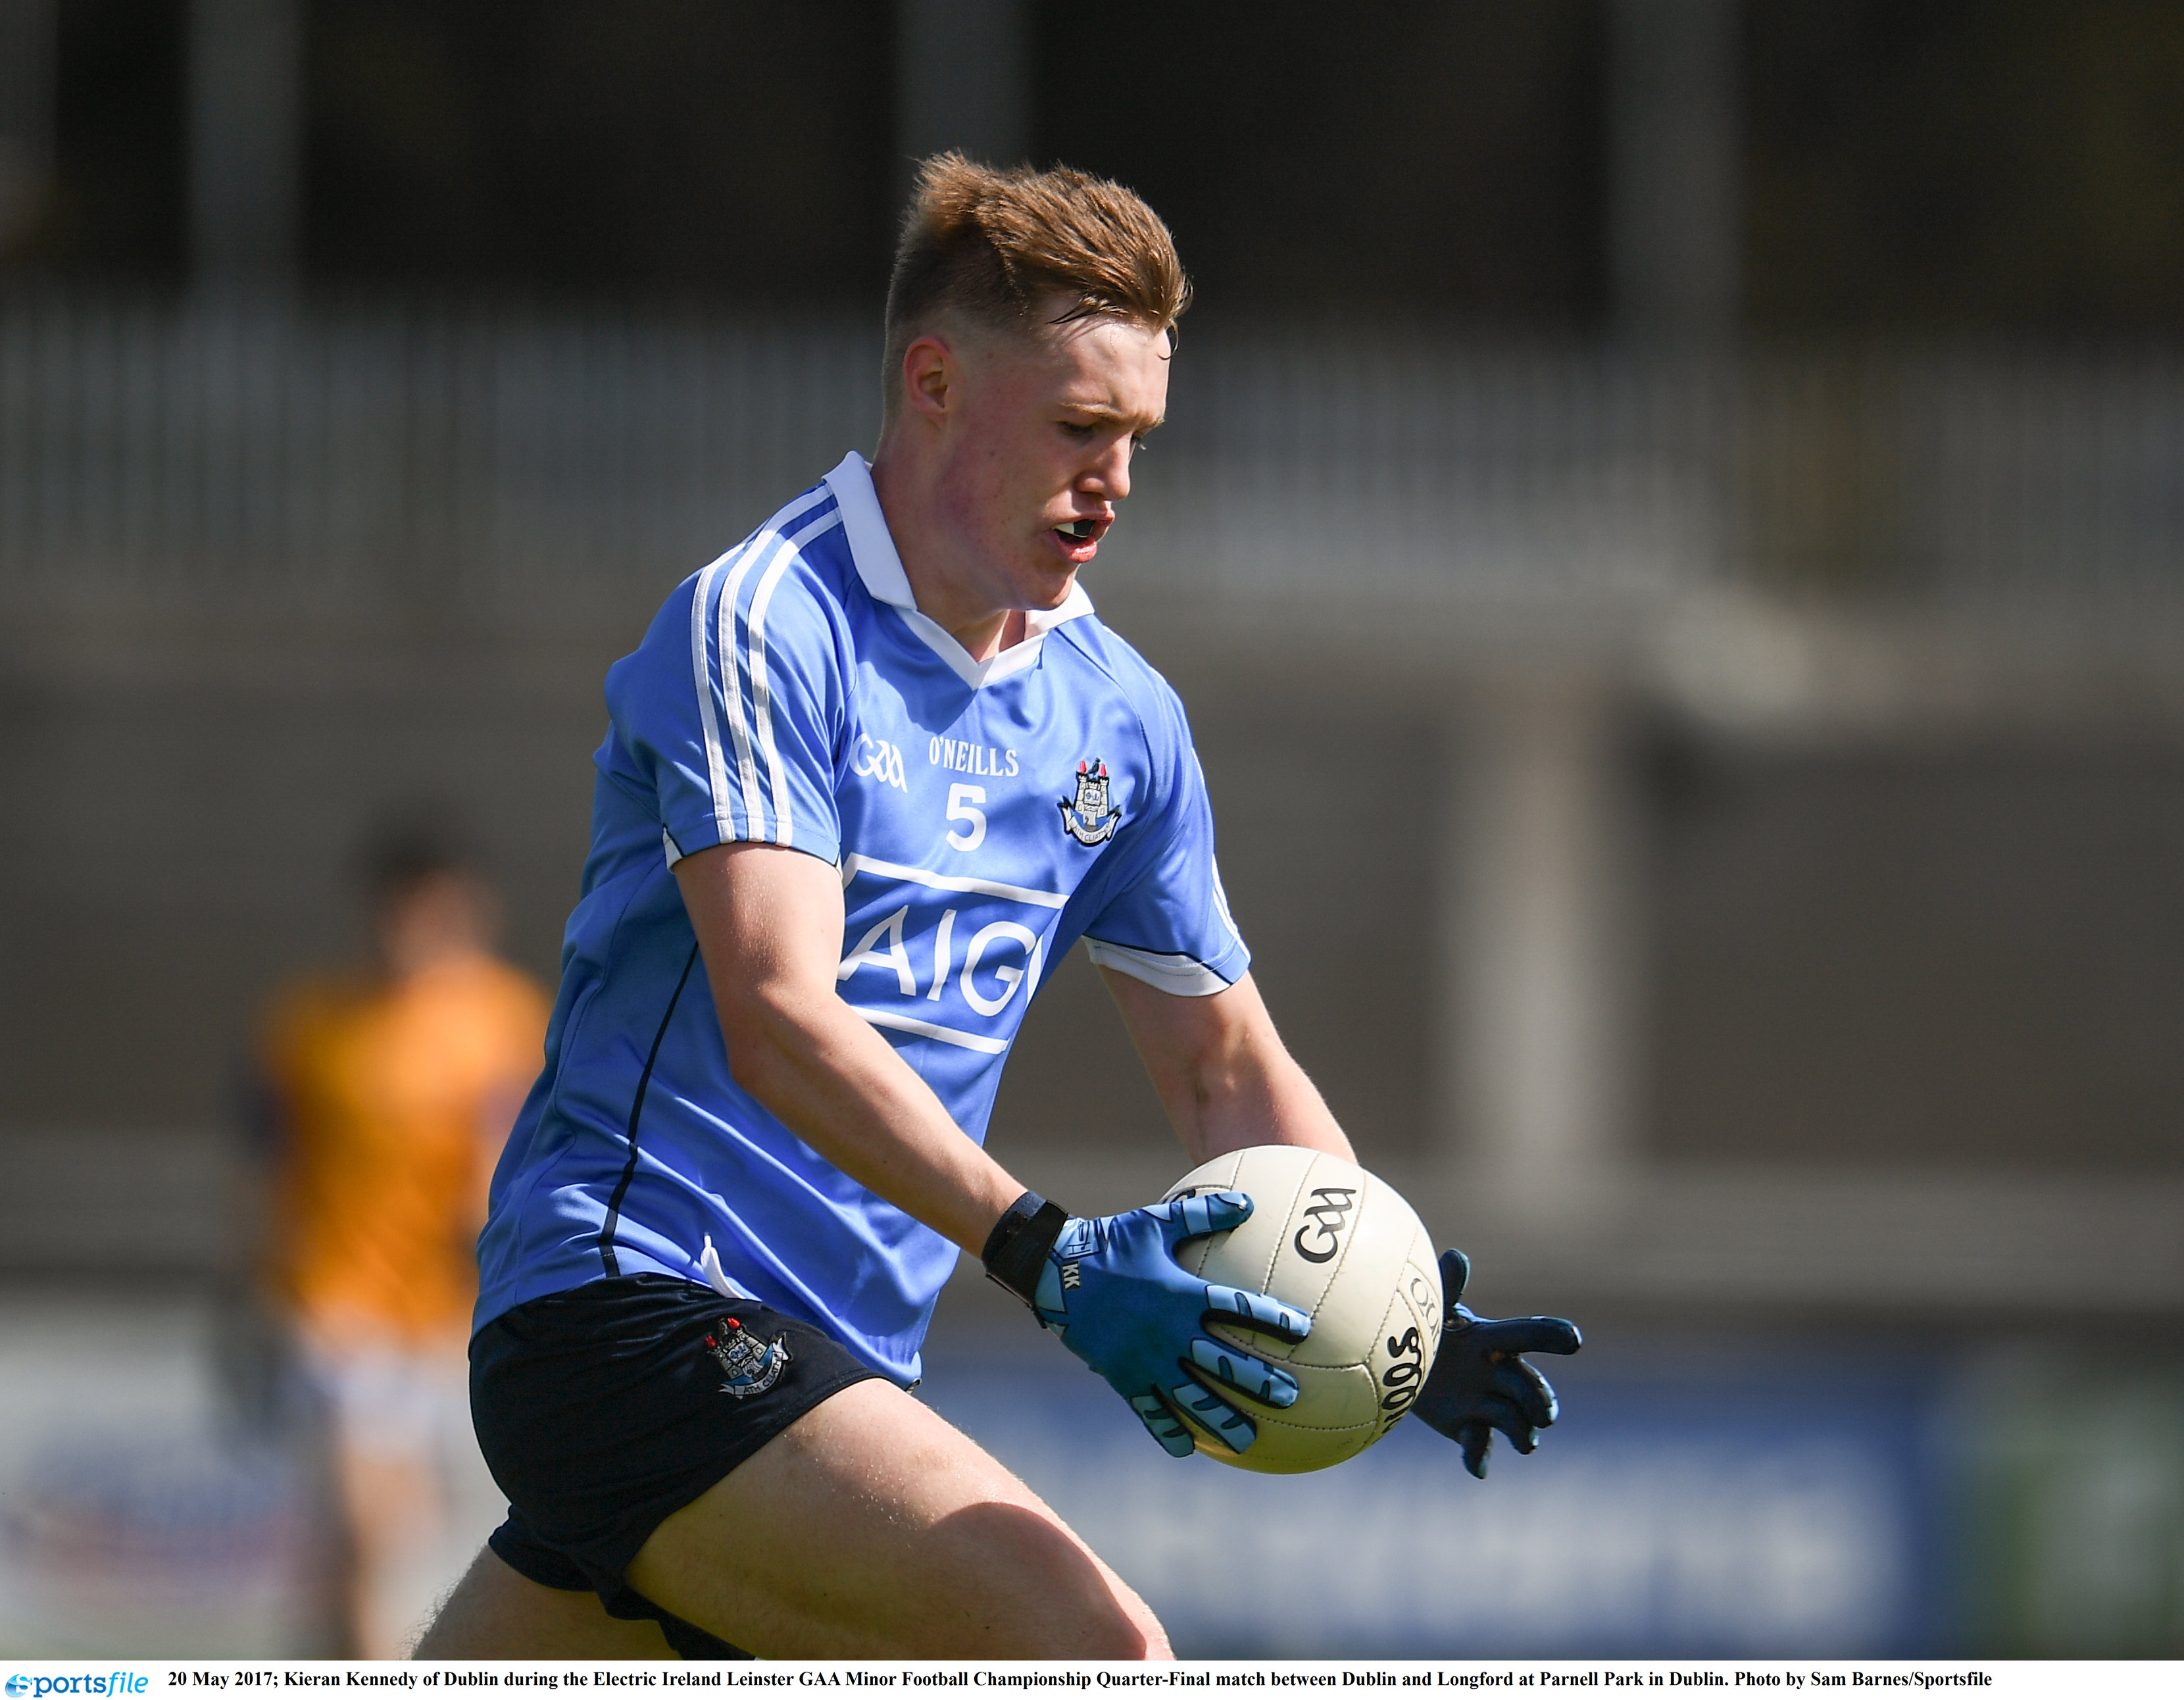ball: (1124, 1138, 1454, 1468)
player: (505, 110, 1370, 1618)
